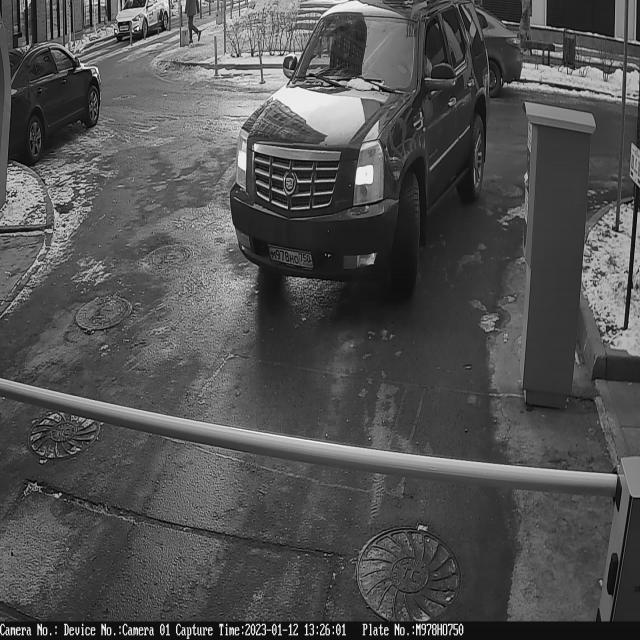car-plate-numbers: (265, 239, 322, 278)
